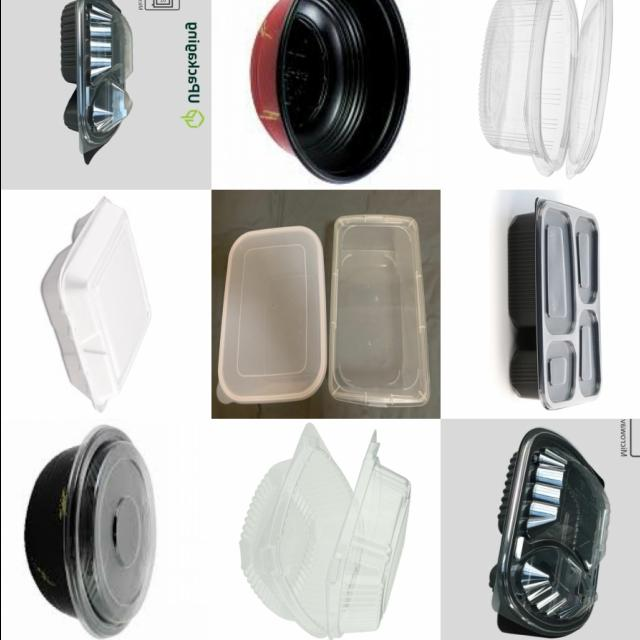plastik: (240, 424, 410, 638), (251, 0, 408, 183), (24, 426, 155, 638), (489, 428, 608, 637), (41, 198, 149, 412), (328, 214, 430, 408), (216, 226, 326, 404), (508, 198, 600, 410), (479, 0, 577, 177), (61, 0, 132, 163), (565, 0, 612, 178)
